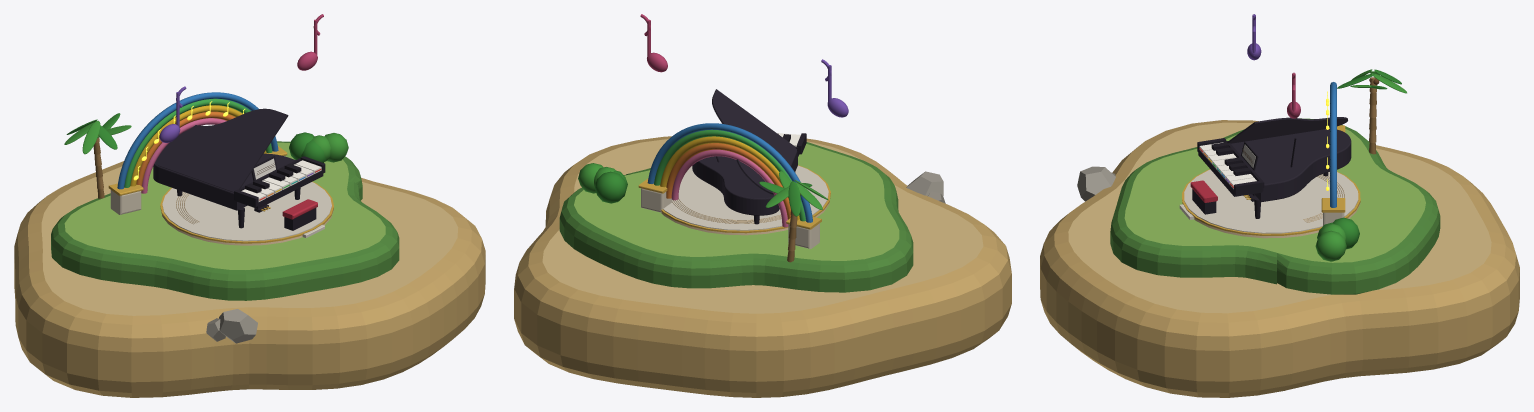
Rendered from music.glb.
3 views of the same model, side by side, from view 1: azimuth 30°, elevation 25°; view 2: azimuth 150°, elevation 25°; view 3: azimuth 270°, elevation 25° (orthographic). The views are drawn at different scales.
Parts seen in each view (by area): view 1: part_000, part_007, part_003, part_030, part_006, part_005, part_043, part_044, part_045, part_042, part_041; view 2: part_000, part_030, part_003, part_005, part_007, part_043, part_044, part_045, part_041, part_042; view 3: part_000, part_003, part_005, part_006, part_007, part_030, part_044, part_043, part_045.
Boxes of the visible parts, <box> form: part_000: <box>14,141,485,397</box>; part_007: <box>155,108,288,192</box>; part_003: <box>160,181,333,245</box>; part_030: <box>108,92,287,214</box>; part_006: <box>177,156,325,230</box>; part_005: <box>153,153,295,210</box>; part_043: <box>64,113,131,198</box>; part_044: <box>289,132,348,162</box>; part_045: <box>206,309,257,343</box>; part_042: <box>297,14,323,70</box>; part_041: <box>159,86,186,142</box>; part_000: <box>514,136,1011,397</box>; part_030: <box>638,123,821,248</box>; part_003: <box>661,165,830,235</box>; part_005: <box>692,151,797,215</box>; part_007: <box>712,89,796,194</box>; part_043: <box>759,171,828,262</box>; part_044: <box>578,163,627,203</box>; part_045: <box>906,171,945,203</box>; part_041: <box>821,59,848,117</box>; part_042: <box>640,14,667,72</box>; part_000: <box>1040,118,1519,397</box>; part_003: <box>1179,169,1360,238</box>; part_005: <box>1231,129,1351,202</box>; part_006: <box>1190,137,1328,218</box>; part_007: <box>1227,117,1347,143</box>; part_030: <box>1321,82,1345,225</box>; part_044: <box>1315,217,1359,261</box>; part_043: <box>1337,69,1406,154</box>; part_045: <box>1077,166,1115,201</box>.
Size of the model in its own units: 8.96 by 5.44 by 8.47.
